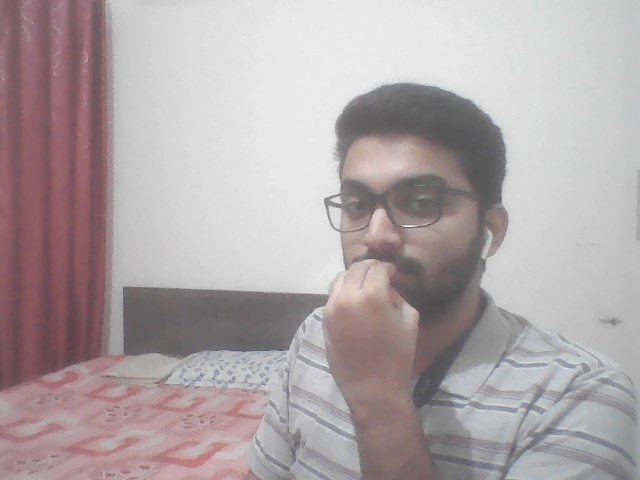eat: (305, 247, 447, 438)
